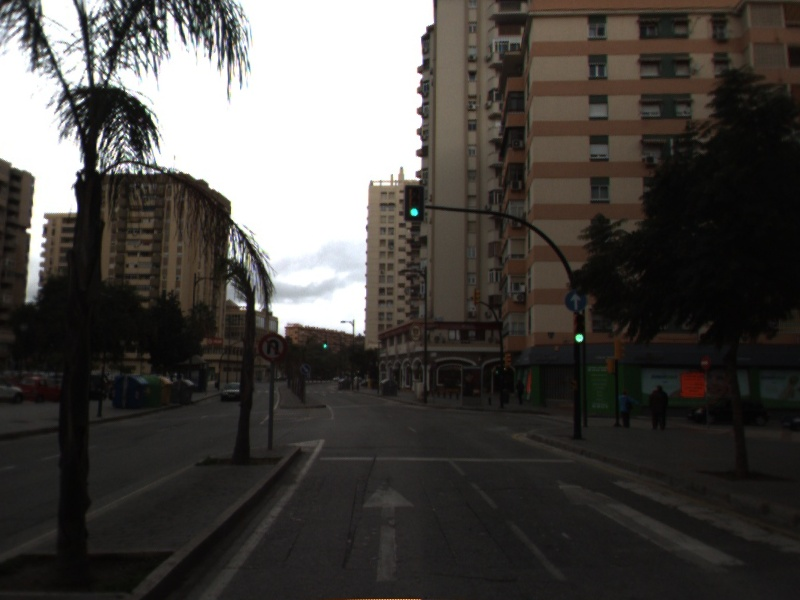STRAIGHT: (359, 475, 419, 585)
